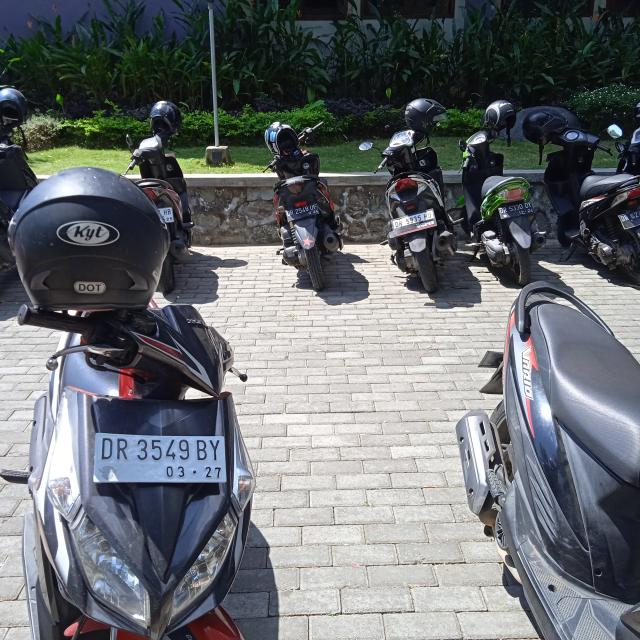plate: (95, 428, 229, 491), (392, 207, 438, 237), (284, 202, 319, 224), (498, 201, 534, 221)
